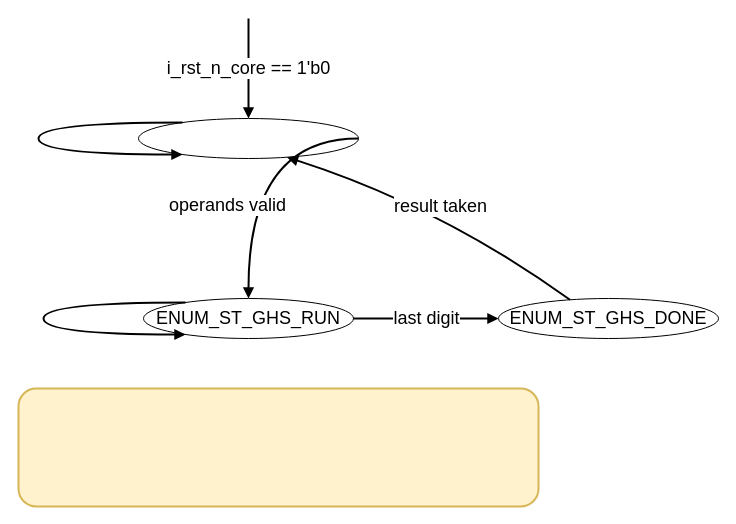
The diagram is 736 pixels wide and 524 high, and some of its shapes have lost their labels. Here are the shapes that lost their labels. From the top down, the centre of each, then its label:
At point 248,138: "ENUM_ST_GHS_IDLE".
At point 278,447: "GLOBAL NEXT-STATE CONTROL G1 ANY STATE -> ENUM_ST_GHS_IDLE Abort forces idle.".
